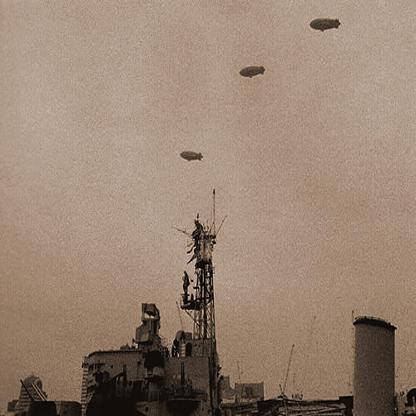Airship: (308, 14, 343, 43), (236, 63, 269, 86), (178, 148, 207, 167)
